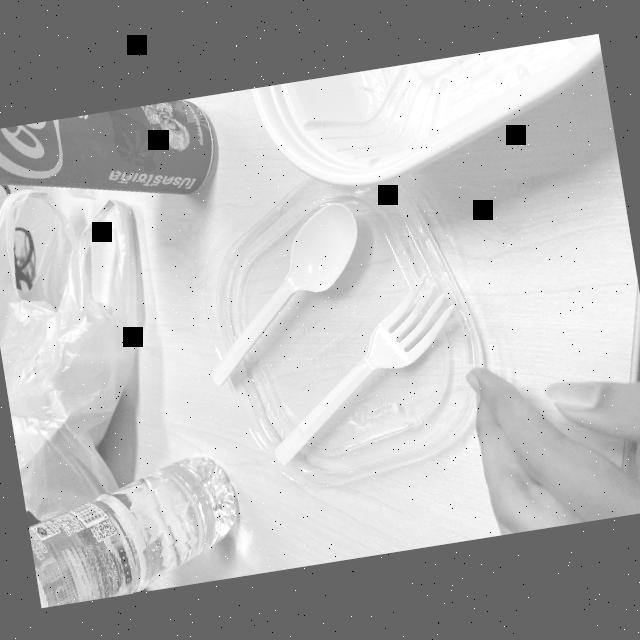plastic_spoon: (243, 255, 477, 478), (181, 188, 390, 400)
